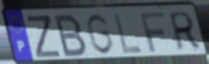B: (54, 13, 89, 59)
F: (139, 11, 167, 54)
G: (85, 13, 116, 56)
L: (112, 11, 144, 56)
R: (169, 10, 202, 52)
Z: (25, 14, 62, 59)
